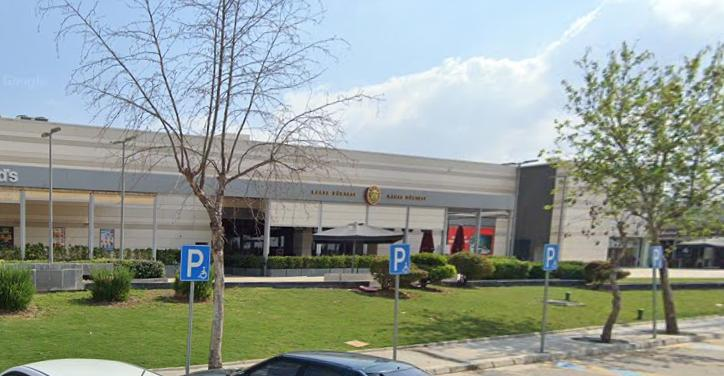disabledpark: (183, 247, 210, 279), (391, 247, 410, 273), (545, 245, 557, 271)
